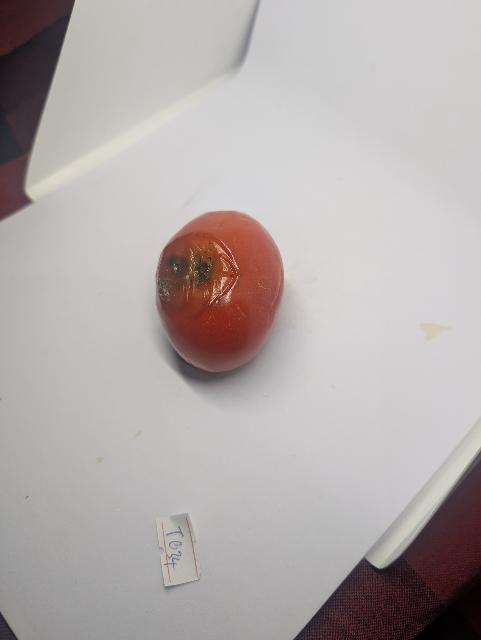defect: (152, 207, 287, 376)
